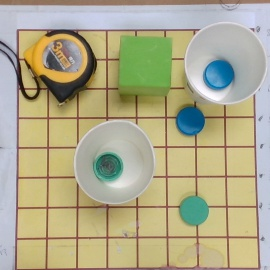blue: (176, 107, 206, 136)
cup_blue: (175, 22, 266, 106)
cup_green: (73, 121, 159, 205)
green: (179, 195, 209, 226)
